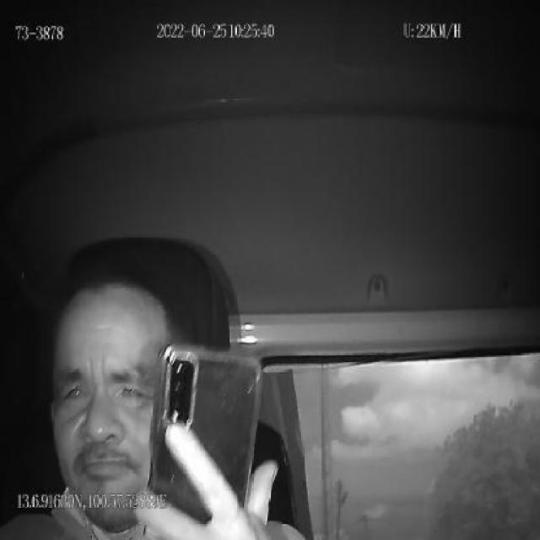phone: (145, 338, 263, 540)
